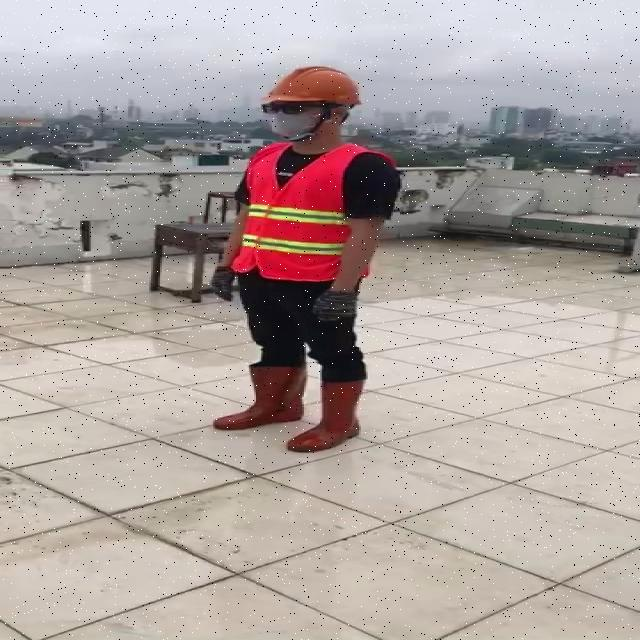Hard_hat: (257, 62, 371, 115)
Person: (206, 54, 404, 624)
Vest: (240, 140, 355, 284)
